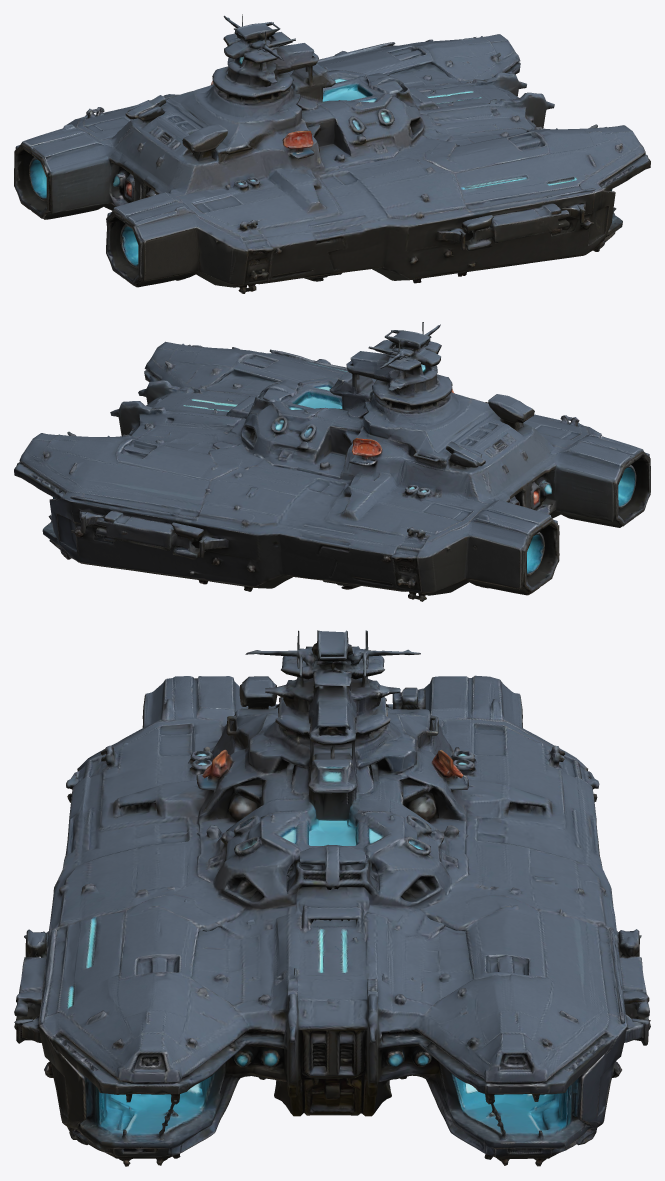
The model's file is sci-fi_battleship_3d_model.glb.
3 views of the same model, one above another, from view 1: azimuth 30°, elevation 25°; view 2: azimuth 150°, elevation 25°; view 3: azimuth 270°, elevation 25° (orthographic). The views are drawn at different scales.
Visible parts, largest first — view 1: tripo_node_ea6a95aa-3717-4db7-9248-4ab4c8fc48f3; view 2: tripo_node_ea6a95aa-3717-4db7-9248-4ab4c8fc48f3; view 3: tripo_node_ea6a95aa-3717-4db7-9248-4ab4c8fc48f3.
Part boxes in pixels (x1,y1,x2,y2): tripo_node_ea6a95aa-3717-4db7-9248-4ab4c8fc48f3: [14, 14, 650, 293]; tripo_node_ea6a95aa-3717-4db7-9248-4ab4c8fc48f3: [14, 322, 650, 601]; tripo_node_ea6a95aa-3717-4db7-9248-4ab4c8fc48f3: [14, 630, 650, 1166].
Bounding box in the file's own units: 1 × 0.4578 × 0.7636.
1 material, 1 textured.
